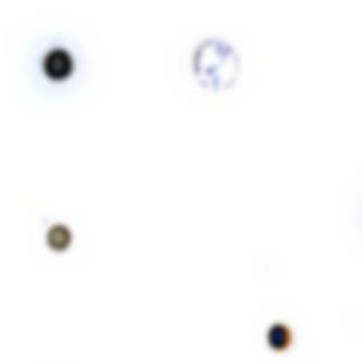abnormal: (181, 31, 253, 102)
cancer: (20, 28, 100, 105)
normal: (251, 301, 308, 362), (34, 209, 85, 264)
